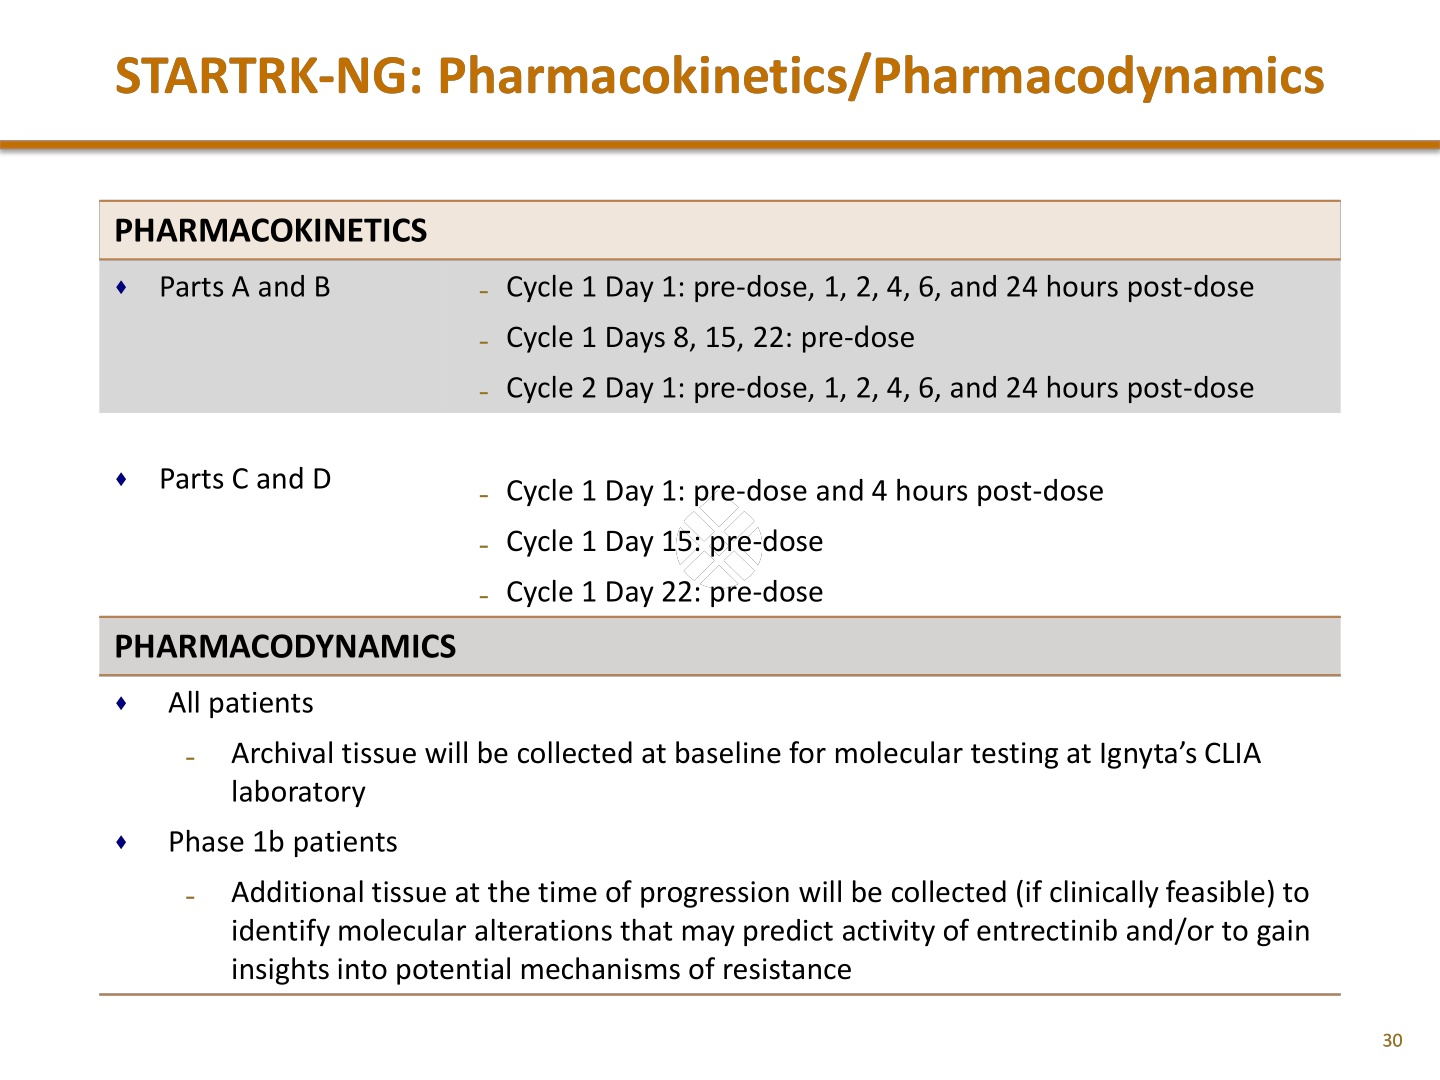partial_lined_merged_cells: (98, 199, 1342, 999)
